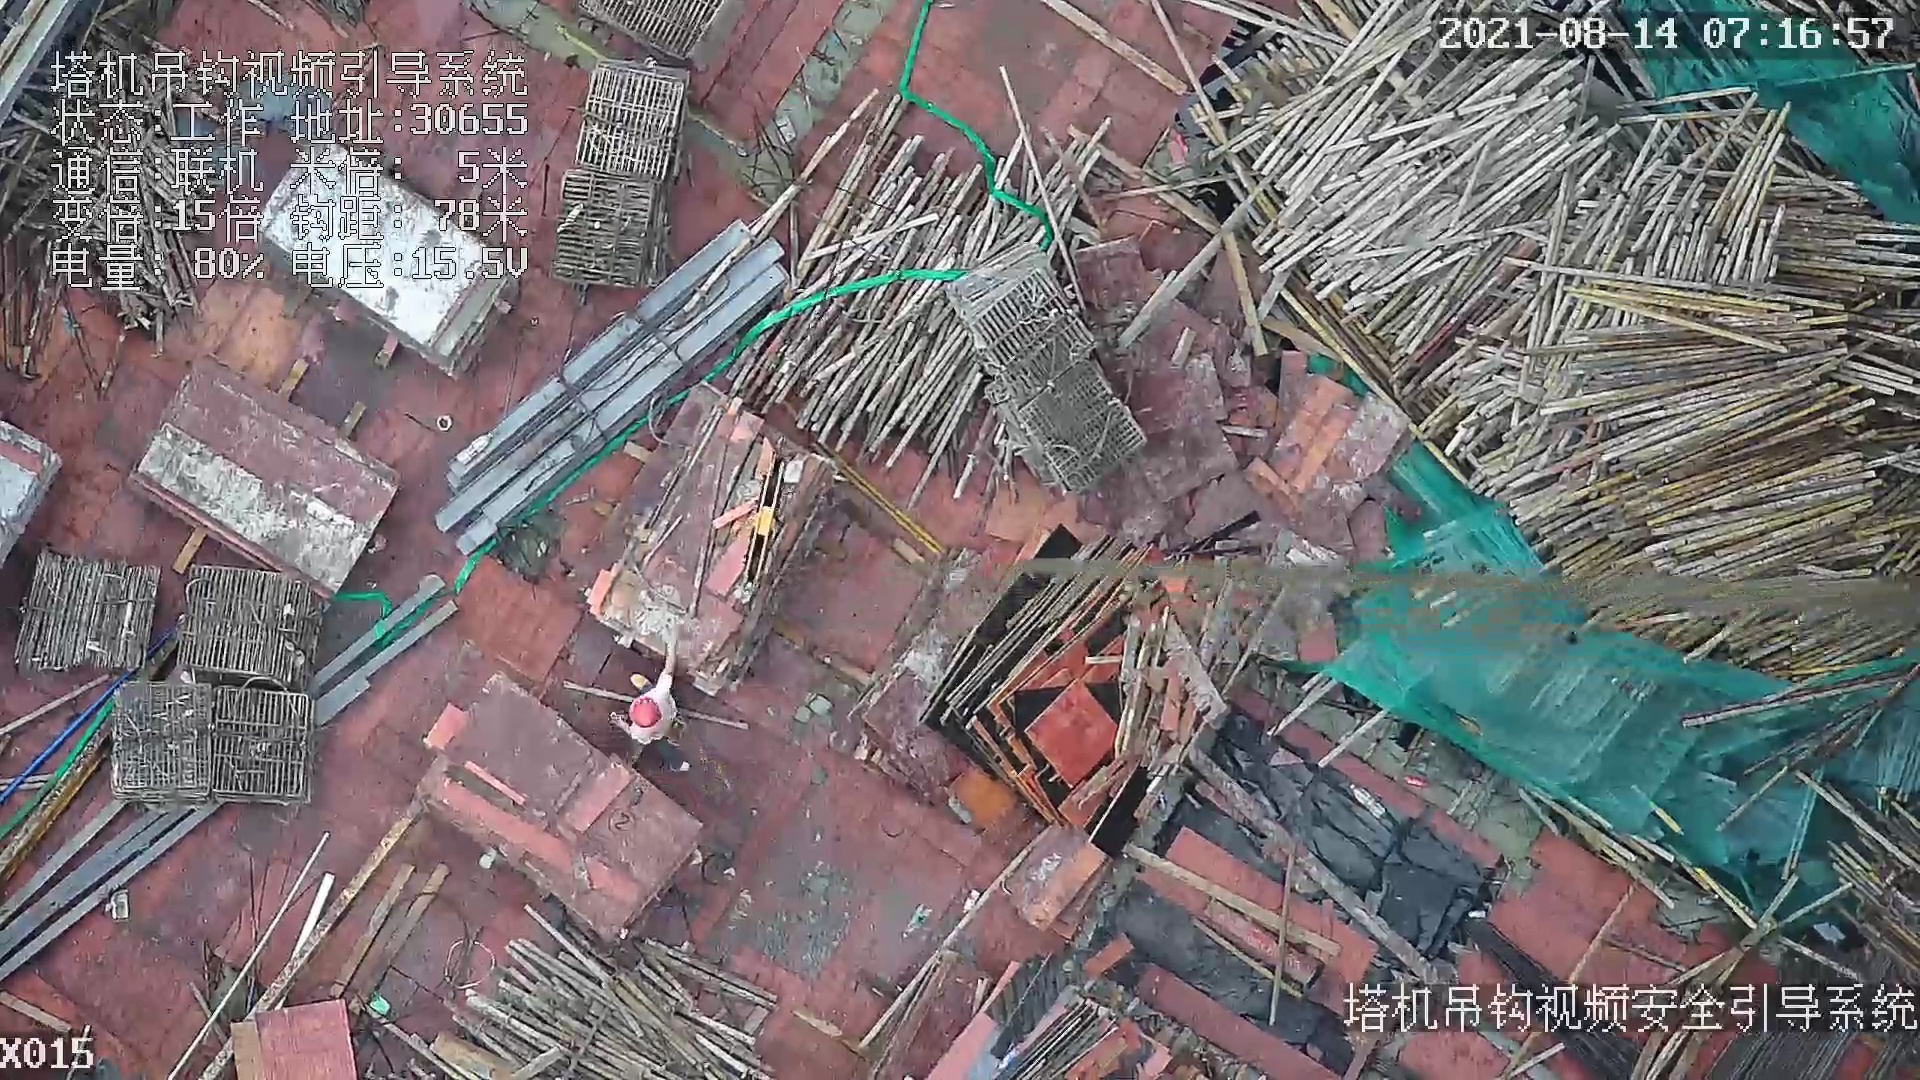helmet: (634, 702, 655, 735)
hook: (738, 453, 782, 589)
person: (612, 633, 697, 783)
